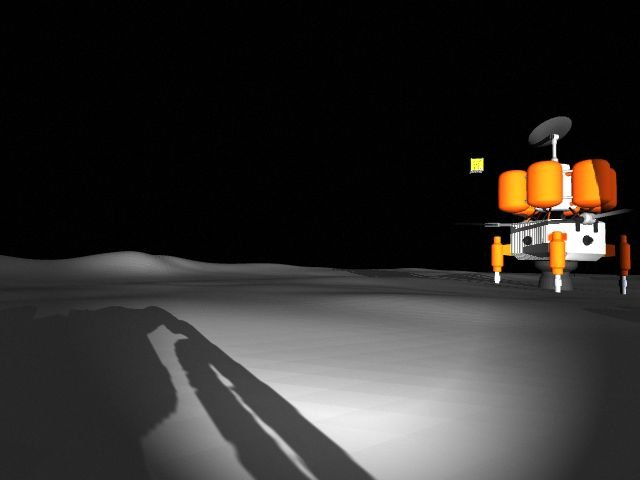cubesat: (464, 154, 488, 177)
